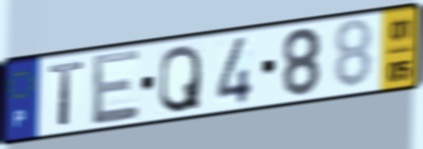4: (214, 32, 255, 108)
8: (331, 17, 378, 93), (280, 25, 323, 99)
E: (90, 46, 142, 129)
Q: (156, 42, 203, 116)
T: (46, 58, 87, 129)
